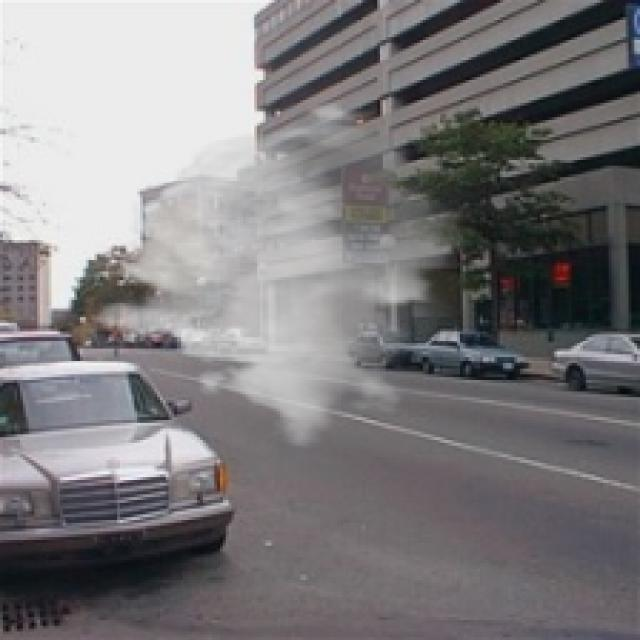Smoke: (92, 97, 477, 449)
